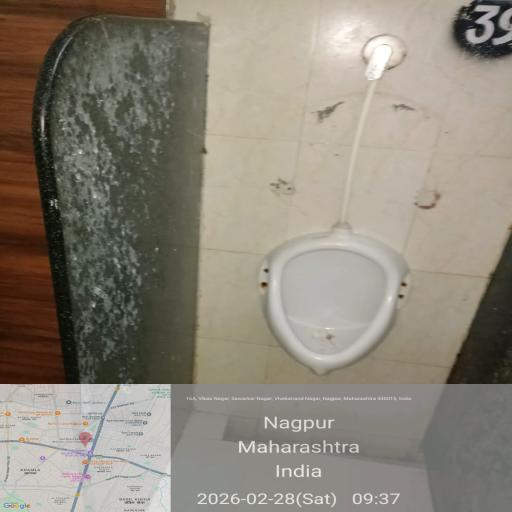clean_urinal: (260, 241, 398, 367)
partial_dirty_floor: (186, 3, 512, 248), (403, 265, 512, 376), (184, 257, 254, 383)
